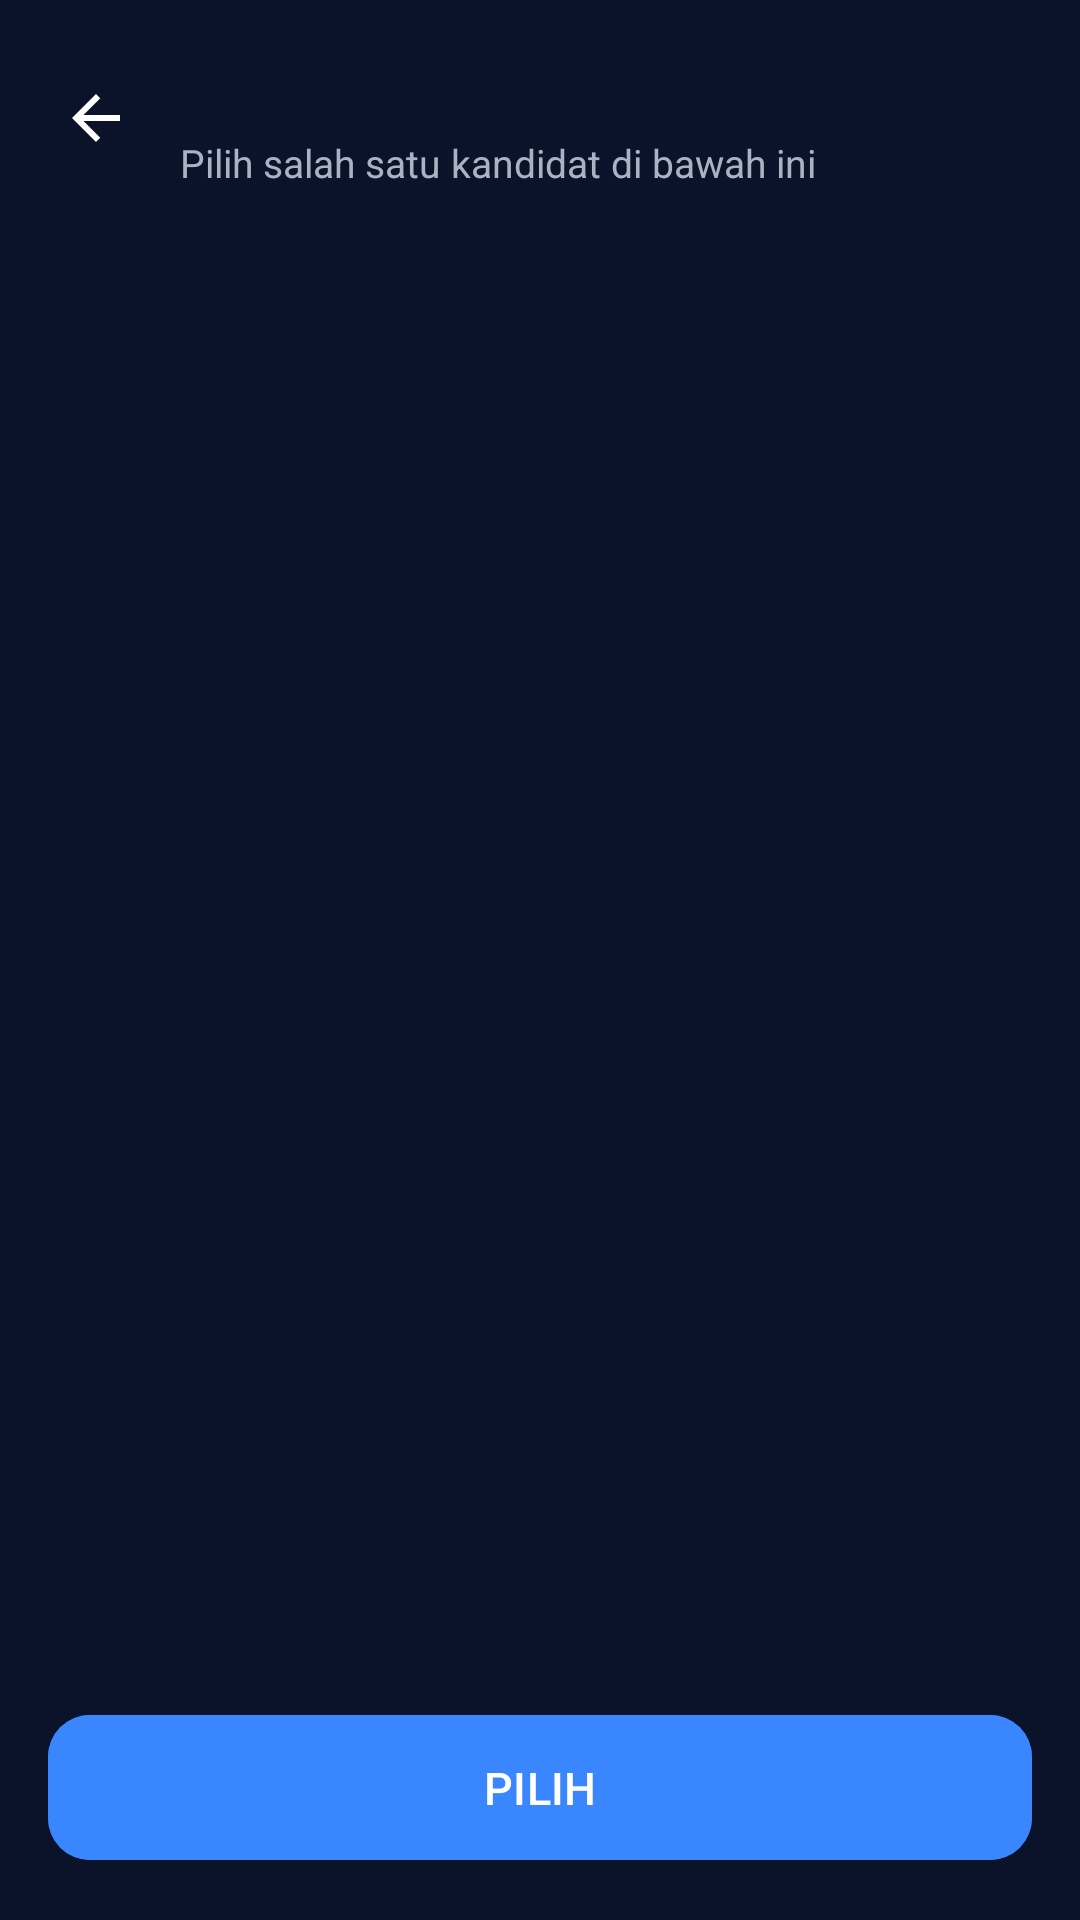

Named icons in this screenshot (1080×1920) and their bounding boxes, (x1, y1, x2, y2):
arrow back: (72, 94, 120, 142)
